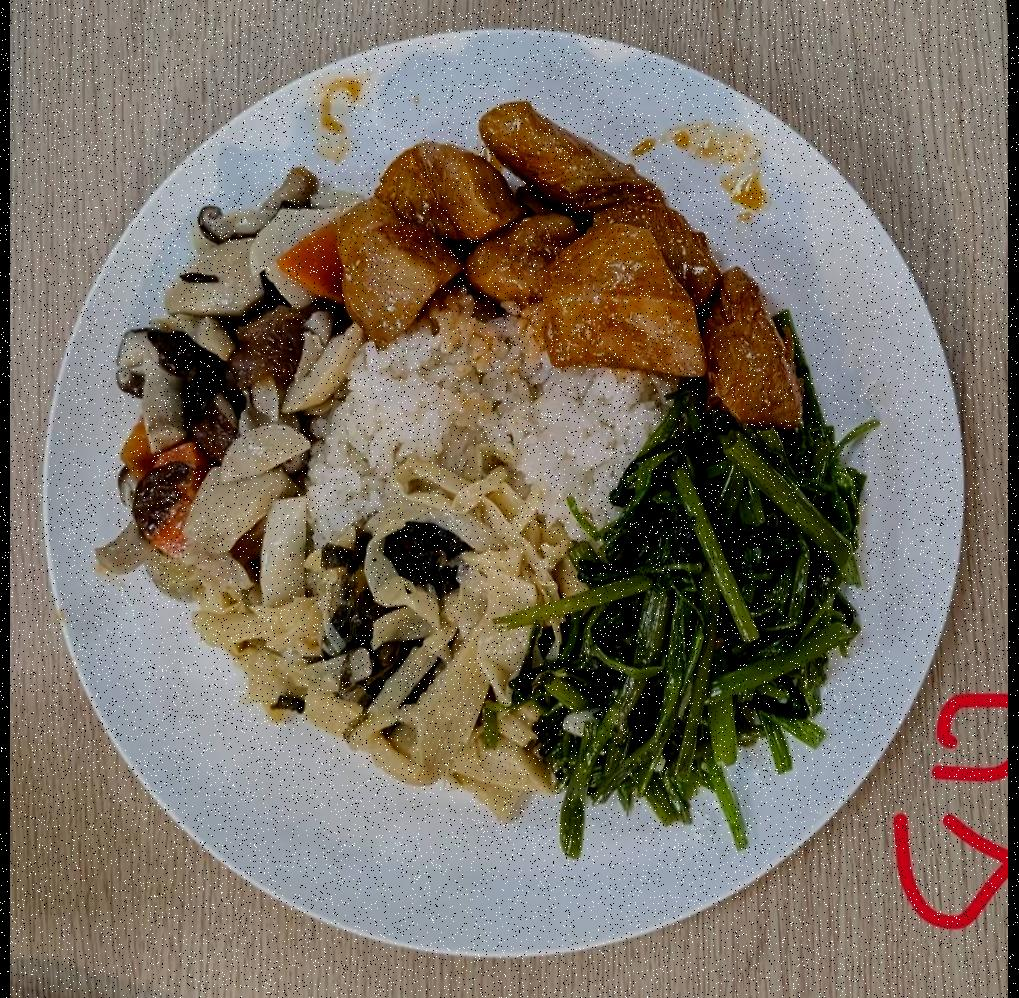plate: (37, 9, 976, 966)
side dish: (529, 382, 875, 860), (215, 475, 552, 808), (97, 178, 359, 598)
spicy chicken: (331, 110, 814, 433)
white rice: (303, 291, 691, 584)
